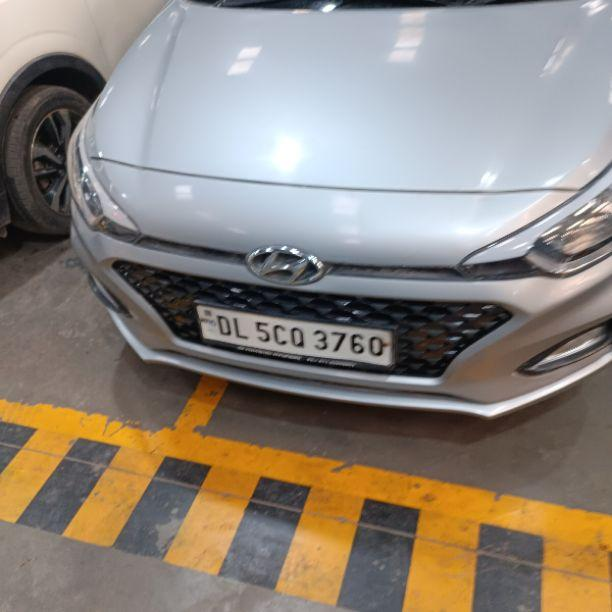license_plate: (194, 303, 398, 370)
